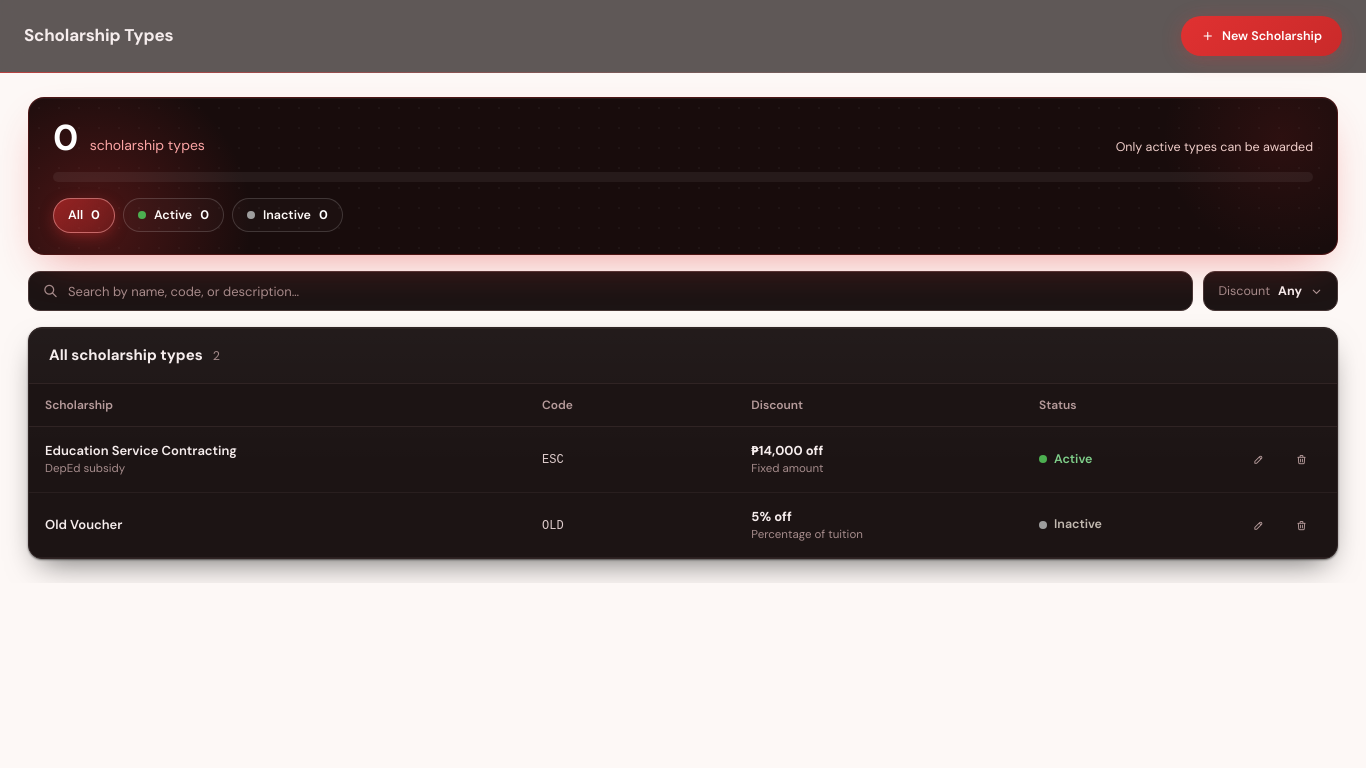
Scholarship types — dark mode › opens the delete confirm
Expected: the text "Old Voucher" is shown, [45,516,122,533]
Click the button named "Delete Old Voucher": (1302,525) [1282,509,1321,541]
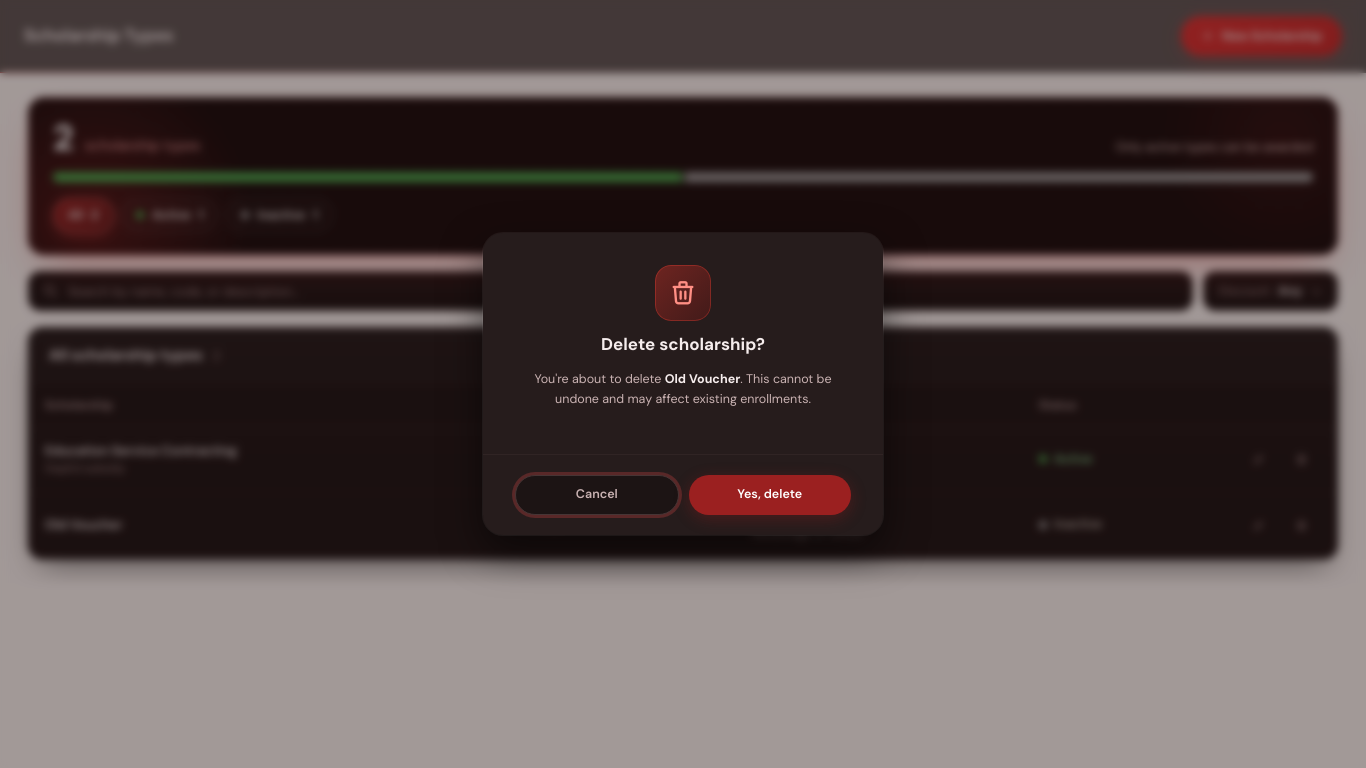
Now the heading "Delete scholarship?" is shown, box [601,333,765,357]
